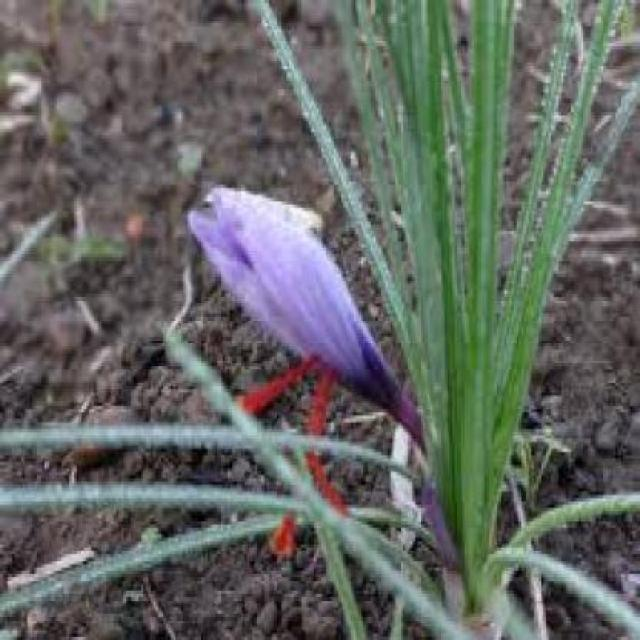Flower: (186, 185, 408, 412)
stigma: (300, 354, 352, 527), (217, 334, 316, 415)
